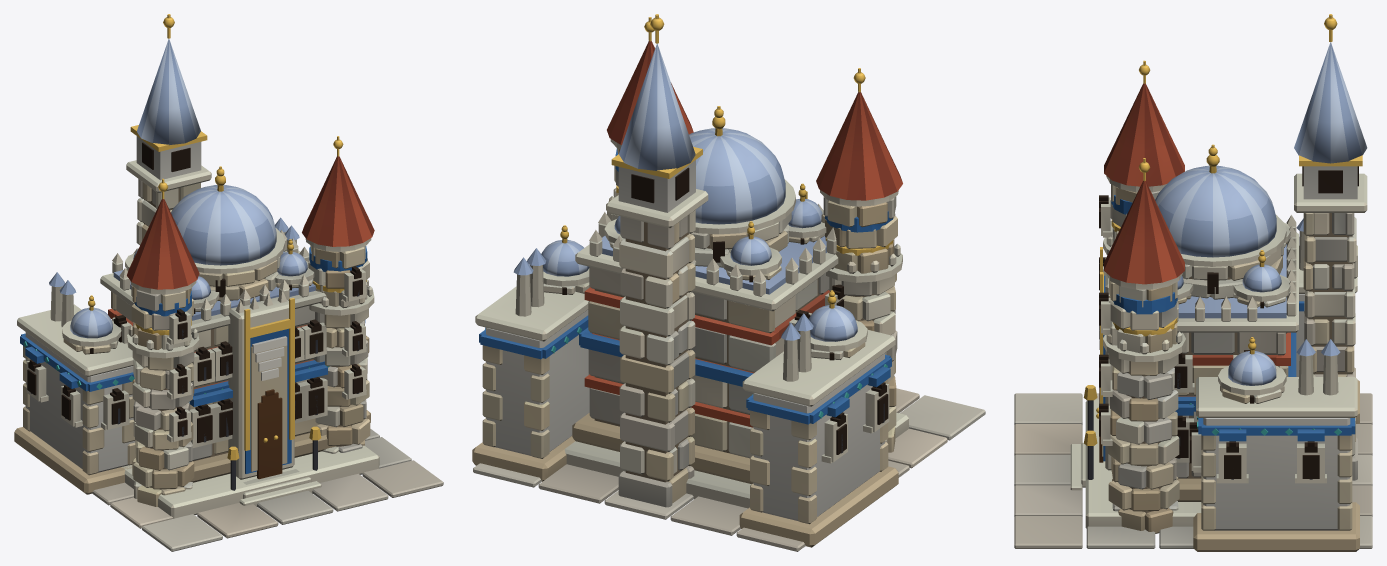
File: b_palace.glb
3 views of the same model, side by side, from view 1: azimuth 30°, elevation 25°; view 2: azimuth 150°, elevation 25°; view 3: azimuth 270°, elevation 25° (orthographic). The views are drawn at different scales.
Visible parts, largest first — view 1: b_palace, L2, L3; view 2: b_palace, L2, L3; view 3: b_palace, L2, L3.
Part boxes in pixels (<box>): b_palace: <box>92,136,443,551</box>; L2: <box>14,217,370,494</box>; L3: <box>126,14,366,450</box>; b_palace: <box>473,17,985,551</box>; L2: <box>472,225,898,547</box>; L3: <box>606,14,893,507</box>; b_palace: <box>1014,60,1372,548</box>; L2: <box>1189,218,1359,551</box>; L3: <box>1100,14,1367,480</box>.
Bounding box in the file's own units: 0.786 × 1.03 × 0.732.
